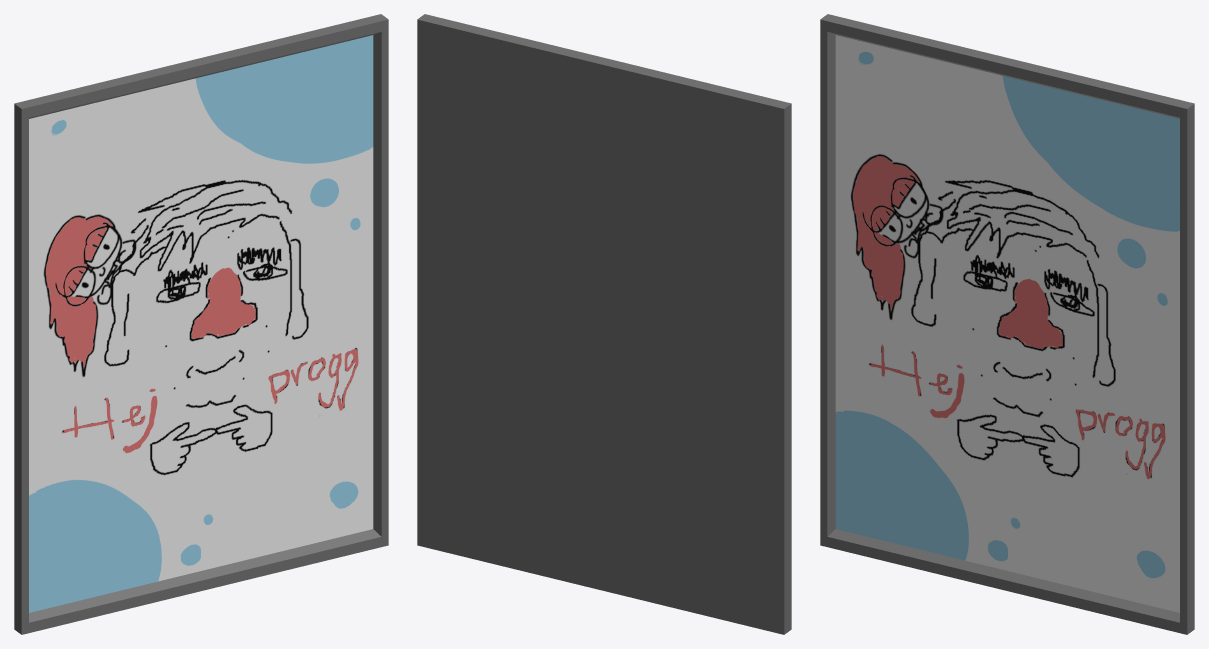
Rendered from Poster_01.fbx.
3 renders of one model, left to right at view 1: azimuth 30°, elevation 25°; view 2: azimuth 150°, elevation 25°; view 3: azimuth 330°, elevation 25°, orthographic.
Parts seen in each view (by area): view 1: Poster_01; view 2: Poster_01; view 3: Poster_01.
Part boxes in pixels (x1,y1,x2,y2): Poster_01: [14, 14, 388, 634]; Poster_01: [417, 14, 791, 634]; Poster_01: [820, 14, 1194, 634].
Bounding box in the file's own units: 71.42 × 97.79 × 2.55.
1 material, 1 textured.
